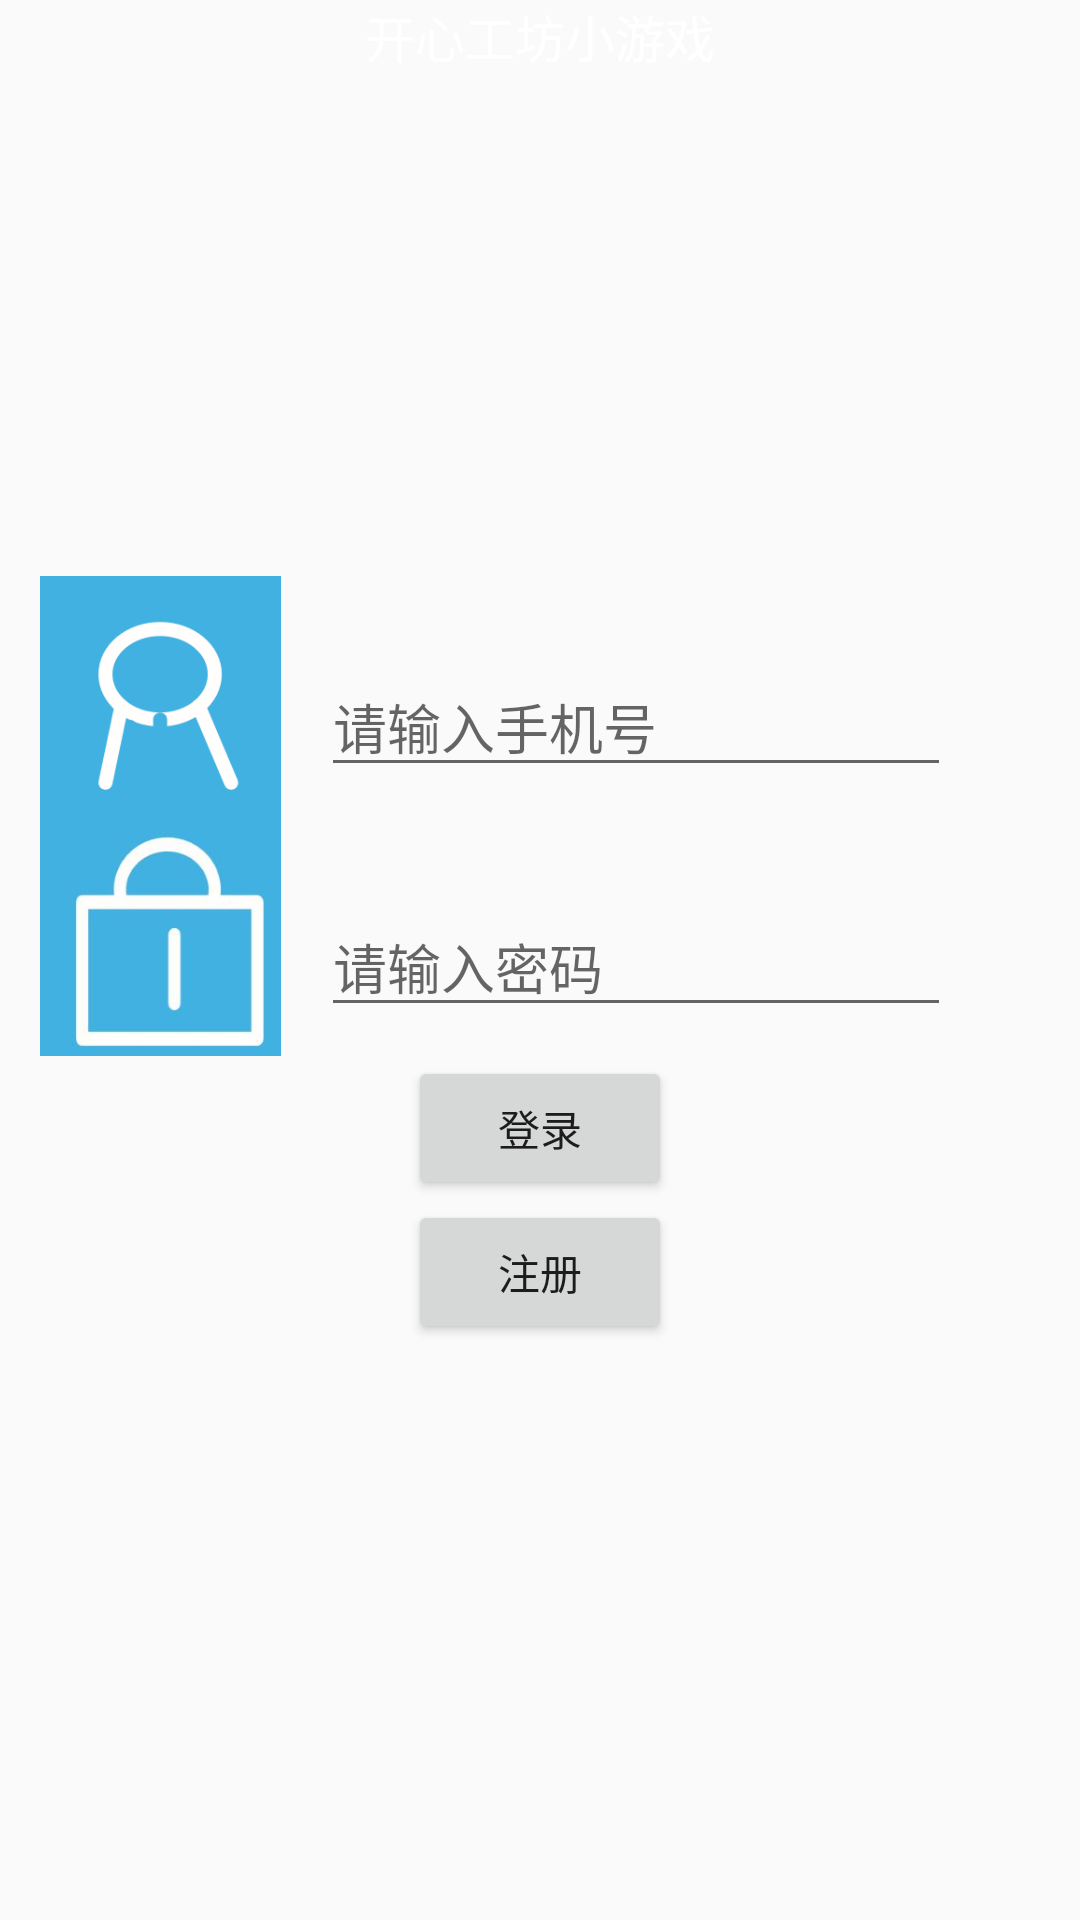

Icon bounding boxes for this 1080 x 1920 phone screenshot, format (x1, y1, x2, y2):
serect: (40, 816, 281, 1056)
